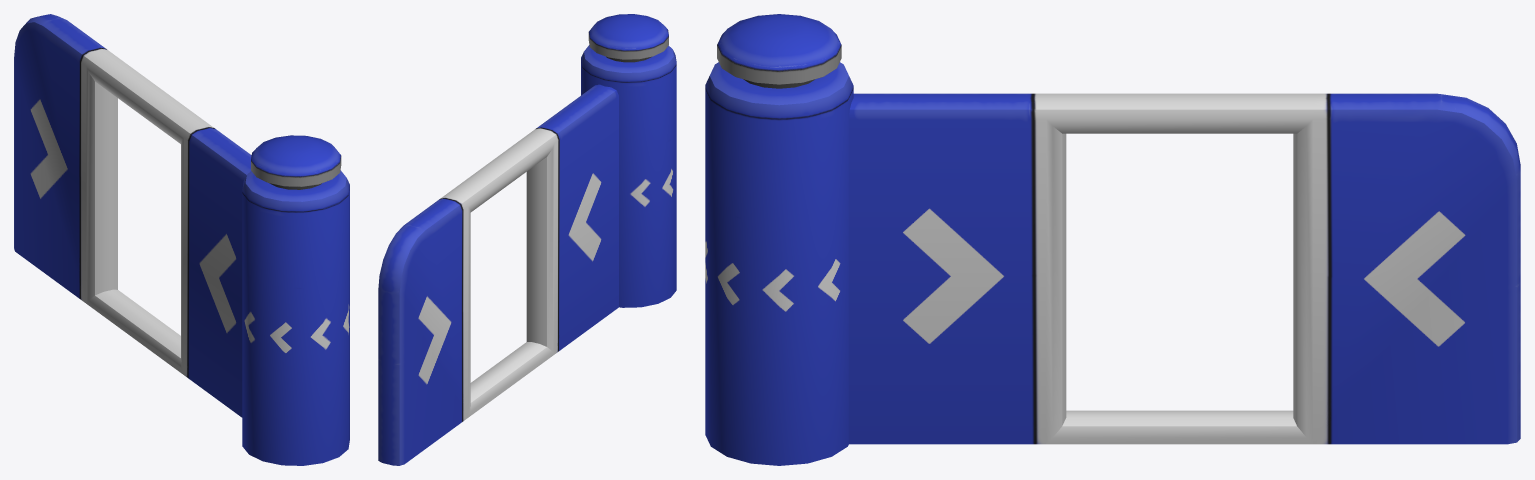
The model's file is OBS0110177.fbx.
3 renders of one model, left to right at view 1: azimuth 30°, elevation 25°; view 2: azimuth 150°, elevation 25°; view 3: azimuth 270°, elevation 25°, orthographic. The views are drawn at different scales.
Visible parts, largest first — view 1: smOBS0110177; view 2: smOBS0110177; view 3: smOBS0110177.
Boxes of the visible parts, <box> form: smOBS0110177: <box>14,14,349,465</box>; smOBS0110177: <box>378,14,676,465</box>; smOBS0110177: <box>705,14,1520,465</box>.
Size of the model in its own units: 80.56 by 245 by 443.
Materials: 1 (1 with a texture image).
